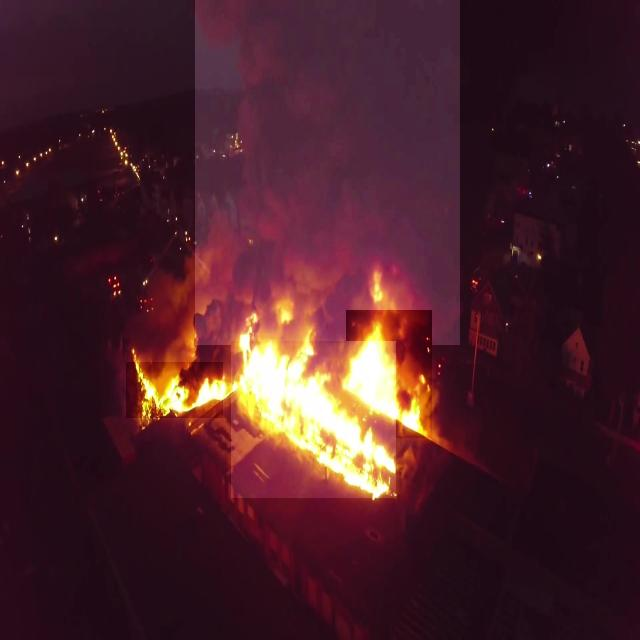Fire: (231, 341, 396, 498), (346, 311, 432, 438), (126, 362, 223, 418)
Smoke: (195, 0, 460, 345)
